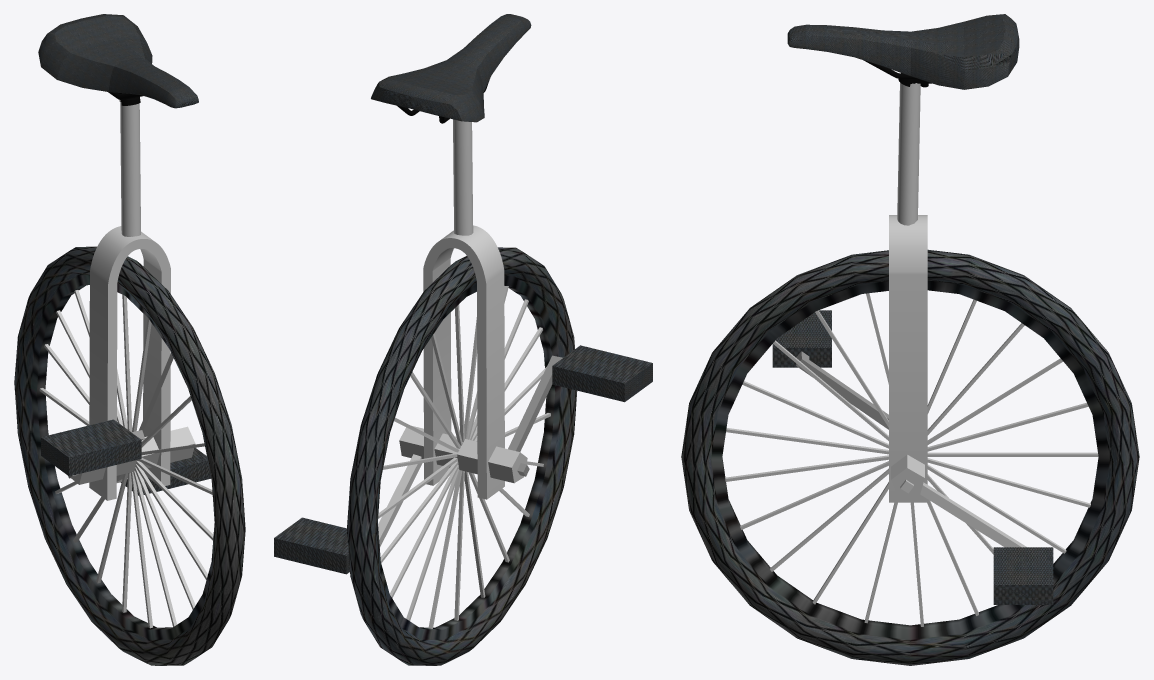
File: unicycle.fbx
3 views of the same model, side by side, from view 1: azimuth 30°, elevation 25°; view 2: azimuth 150°, elevation 25°; view 3: azimuth 270°, elevation 25° (orthographic). The views are drawn at different scales.
Visible parts, largest first — view 1: Torus001_1, Sweep, Saddle, Cube_1, Pole, Cylinder, Cube, Cube_9, Cube_8, Cube_10, Cube_7, Cube_18 (+8 smaller); view 2: Torus001_1, Sweep, Saddle, Cube_1, Cube, Cylinder, Pole, Sweep_1, Sweep_2, Cube_6, Cube_5, Cube_7 (+5 smaller); view 3: Torus001_1, Saddle, Sweep, Cube, Pole, Cube_1, Sweep_2, Sweep_1, Cylinder, Cube_3, Cube_2, Cube_22 (+9 smaller).
Boxes of the visible parts, left/top/right/bottom form: Torus001_1: left=14, top=246, right=245, bottom=665; Sweep: left=89, top=226, right=170, bottom=500; Saddle: left=38, top=14, right=198, bottom=108; Cube_1: left=41, top=419, right=141, bottom=476; Pole: left=120, top=100, right=140, bottom=236; Cylinder: left=71, top=426, right=195, bottom=484; Cube: left=120, top=447, right=211, bottom=495; Cube_9: left=133, top=471, right=176, bottom=626; Cube_8: left=130, top=472, right=152, bottom=628; Cube_10: left=134, top=467, right=195, bottom=609; Cube_7: left=122, top=472, right=131, bottom=612; Cube_18: left=122, top=294, right=132, bottom=432; Torus001_1: left=347, top=247, right=577, bottom=665; Sweep: left=423, top=225, right=504, bottom=499; Saddle: left=371, top=14, right=531, bottom=122; Cube_1: left=552, top=345, right=652, bottom=402; Cube: left=274, top=517, right=349, bottom=574; Cylinder: left=399, top=425, right=527, bottom=483; Pole: left=453, top=119, right=473, bottom=235; Sweep_1: left=508, top=355, right=562, bottom=476; Sweep_2: left=378, top=454, right=422, bottom=547; Cube_6: left=428, top=470, right=462, bottom=628; Cube_5: left=406, top=468, right=460, bottom=620; Cube_7: left=454, top=470, right=464, bottom=620; Torus001_1: left=681, top=249, right=1139, bottom=665; Saddle: left=787, top=14, right=1019, bottom=89; Sweep: left=889, top=215, right=927, bottom=502; Cube: left=993, top=547, right=1053, bottom=604; Pole: left=897, top=82, right=920, bottom=225; Cube_1: left=772, top=310, right=831, bottom=367; Sweep_2: left=900, top=480, right=1026, bottom=547; Sweep_1: left=796, top=351, right=888, bottom=429; Cylinder: left=891, top=454, right=924, bottom=497; Cube_3: left=927, top=458, right=1090, bottom=507; Cube_2: left=927, top=452, right=1098, bottom=456; Cube_22: left=927, top=402, right=1088, bottom=451.
Size of the model in its own units: 34.8 by 80.74 by 52.76.
6 materials, 1 textured.
